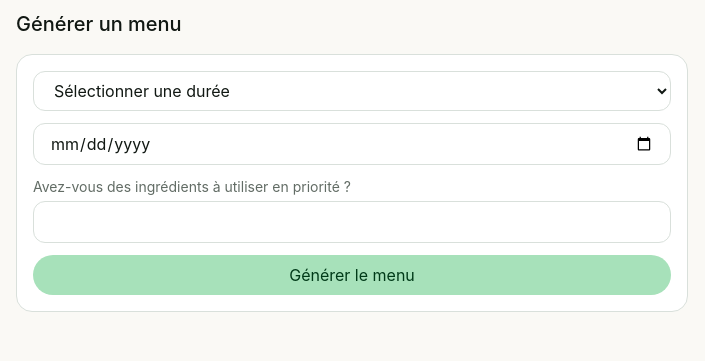
Scenario: affiche une erreur si aucune durée n'est sélectionnée
Click the button "Générer le menu" at (352, 275), box top-left (33, 255), bottom-right (671, 295)
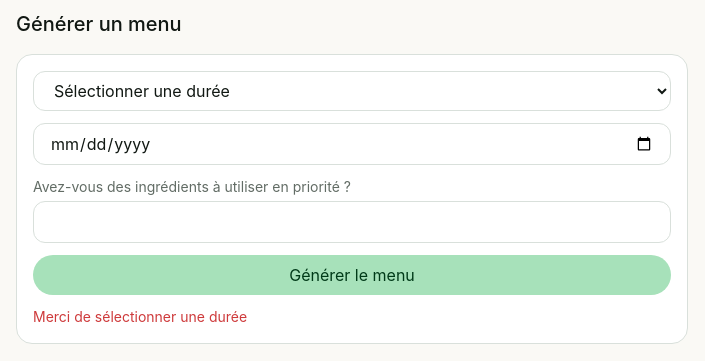
Check: the text "Merci de sélectionner une durée" is shown, box top-left (33, 308), bottom-right (247, 325)
